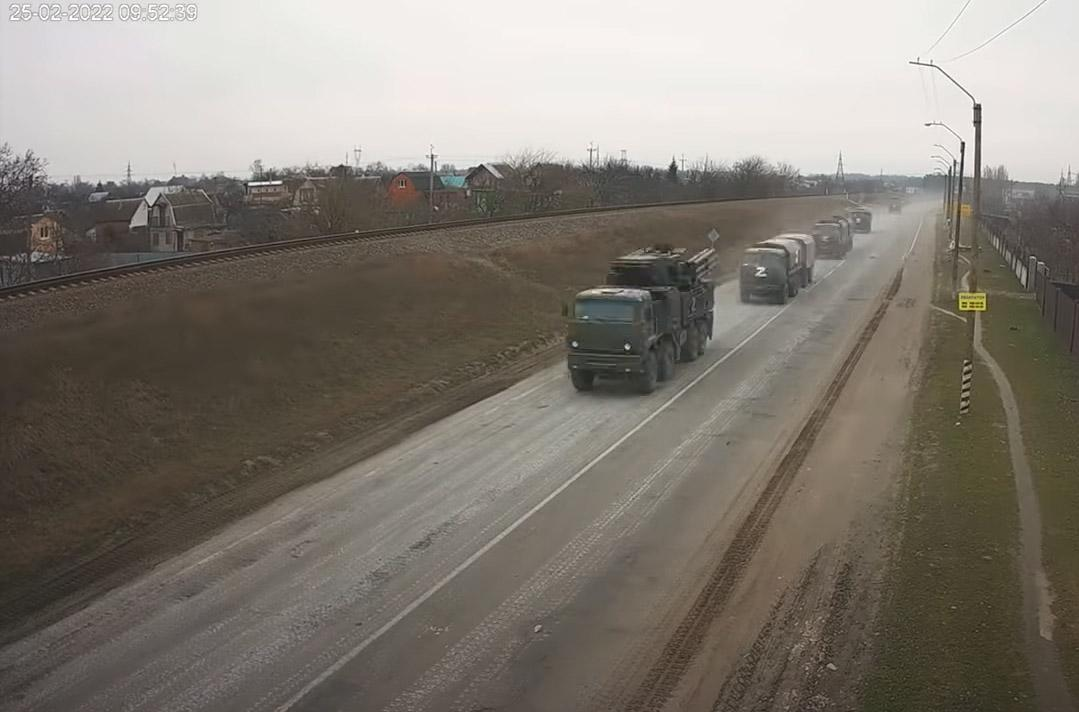truck: (568, 231, 718, 404), (740, 230, 816, 302), (814, 214, 852, 258), (849, 207, 876, 236), (884, 192, 906, 218)
